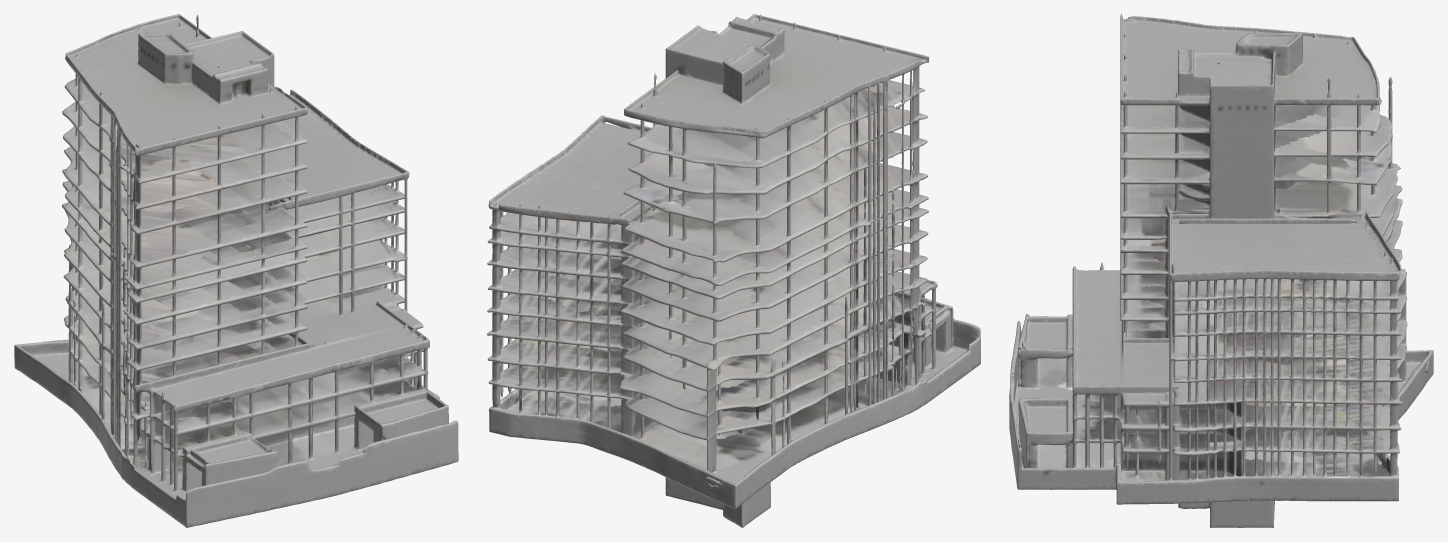
Rendered from tripo_convert_7bb23fee-edc1-4934-a6ce-866522f9674d.fbx.
The picture shows the model from 3 angles, left to right: view 1: azimuth 30°, elevation 25°; view 2: azimuth 150°, elevation 25°; view 3: azimuth 270°, elevation 25°; orthographic projection.
Visible parts, largest first — view 1: tripo_node_7bb23fee; view 2: tripo_node_7bb23fee; view 3: tripo_node_7bb23fee.
Boxes of the visible parts, x1=… form: tripo_node_7bb23fee: x1=14, y1=14, x2=458, y2=527; tripo_node_7bb23fee: x1=487, y1=14, x2=980, y2=527; tripo_node_7bb23fee: x1=1009, y1=14, x2=1433, y2=527.
Bounding box in the file's own units: 70.58 × 100 × 85.17.
Materials: 1 (1 with a texture image).
